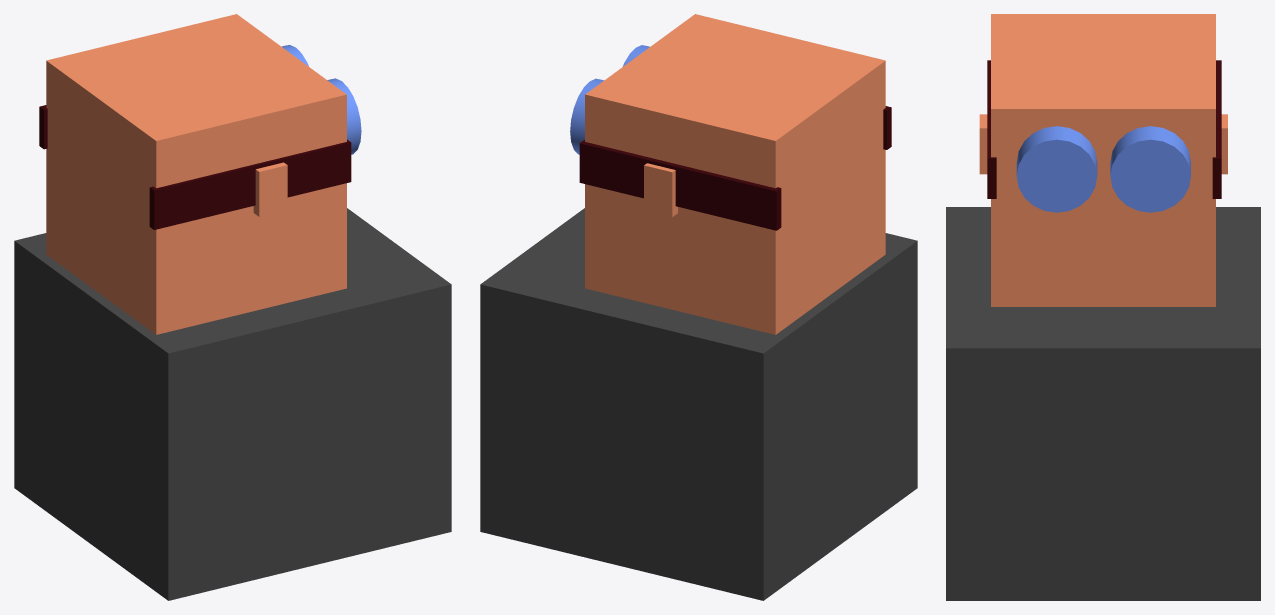
File: pilot.obj
3 views of the same model, side by side, from view 1: azimuth 30°, elevation 25°; view 2: azimuth 150°, elevation 25°; view 3: azimuth 270°, elevation 25° (orthographic). The views are drawn at different scales.
Parts seen in each view (by area): view 1: pasted__pCylinder1; view 2: pasted__pCylinder1; view 3: pasted__pCylinder1.
Boxes of the visible parts, left/top/right/bottom form: pasted__pCylinder1: left=14, top=14, right=451, bottom=600; pasted__pCylinder1: left=480, top=14, right=917, bottom=600; pasted__pCylinder1: left=946, top=14, right=1260, bottom=600.
Bounding box in the file's own units: 1.2 × 1.78 × 1.13.
